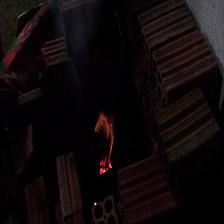fire: (90, 110, 119, 170)
